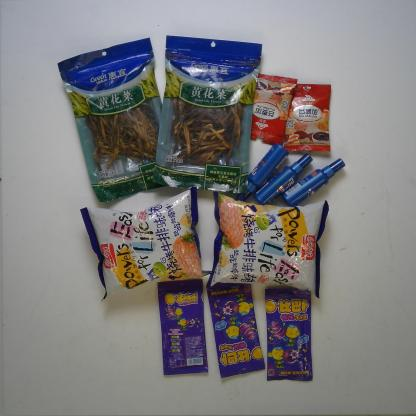Candy: (206, 281, 265, 378), (156, 279, 209, 376), (264, 286, 314, 382)
Dried Food: (56, 35, 170, 203), (152, 34, 263, 195)
Instant Drink: (249, 73, 298, 146), (283, 83, 333, 153)
Personal Hygiene: (281, 156, 346, 208), (235, 141, 289, 202), (252, 154, 314, 206)
Puffed Food: (78, 185, 212, 302), (205, 190, 330, 299)
